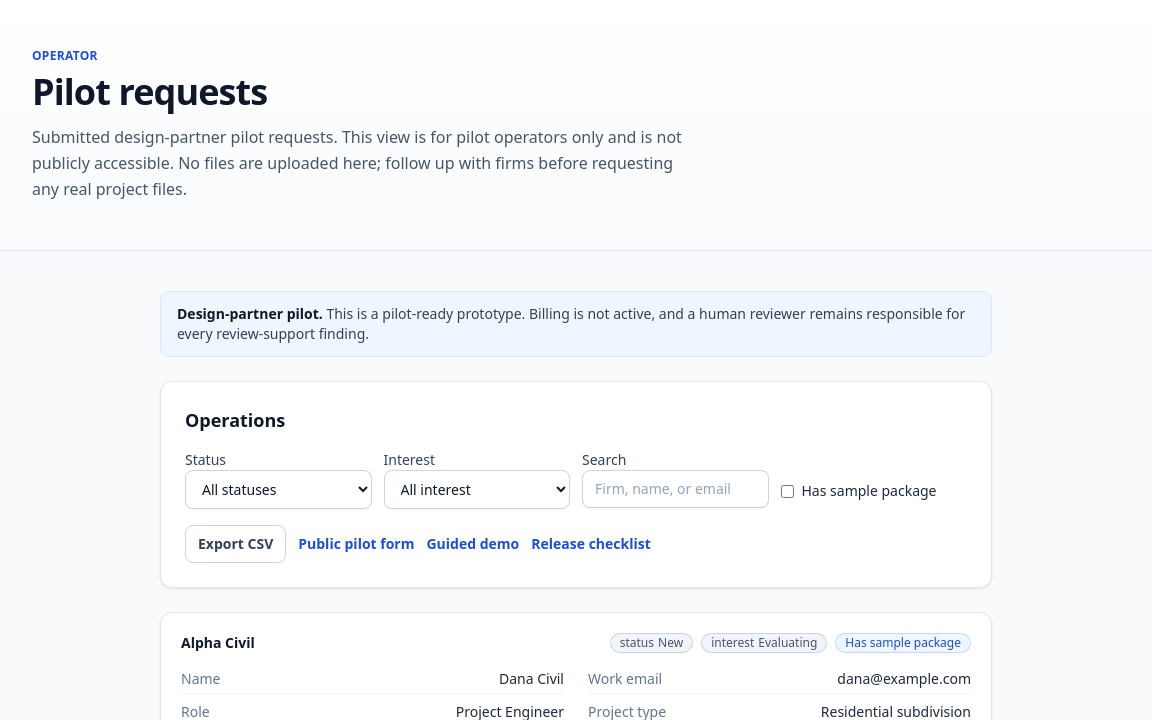
Test: Pilot requests admin operations › filters the list by status
expect the heading "Alpha Civil" is shown: met, box [181,633,255,653]
Select "Qualified" in the dropdown named "filter by status" at (278, 490), box [185,470,372,509]
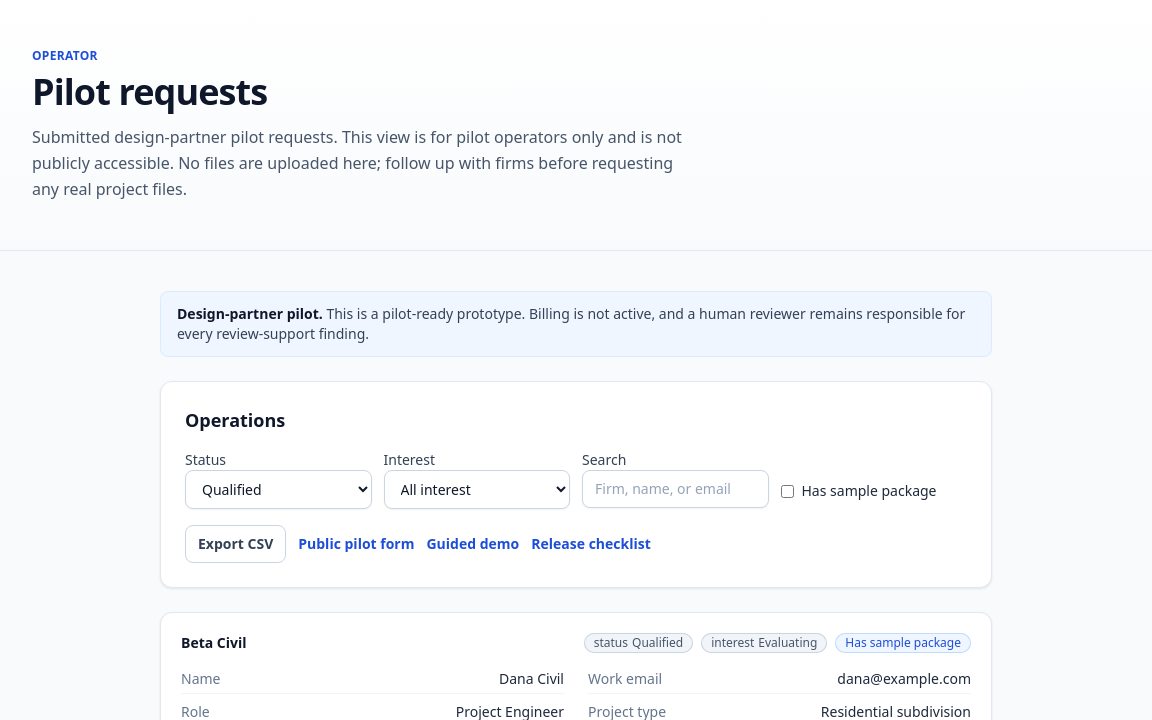
expect the heading "Beta Civil" is shown: met, box [181,633,247,653]
expect the heading "Alpha Civil" is gone: met
